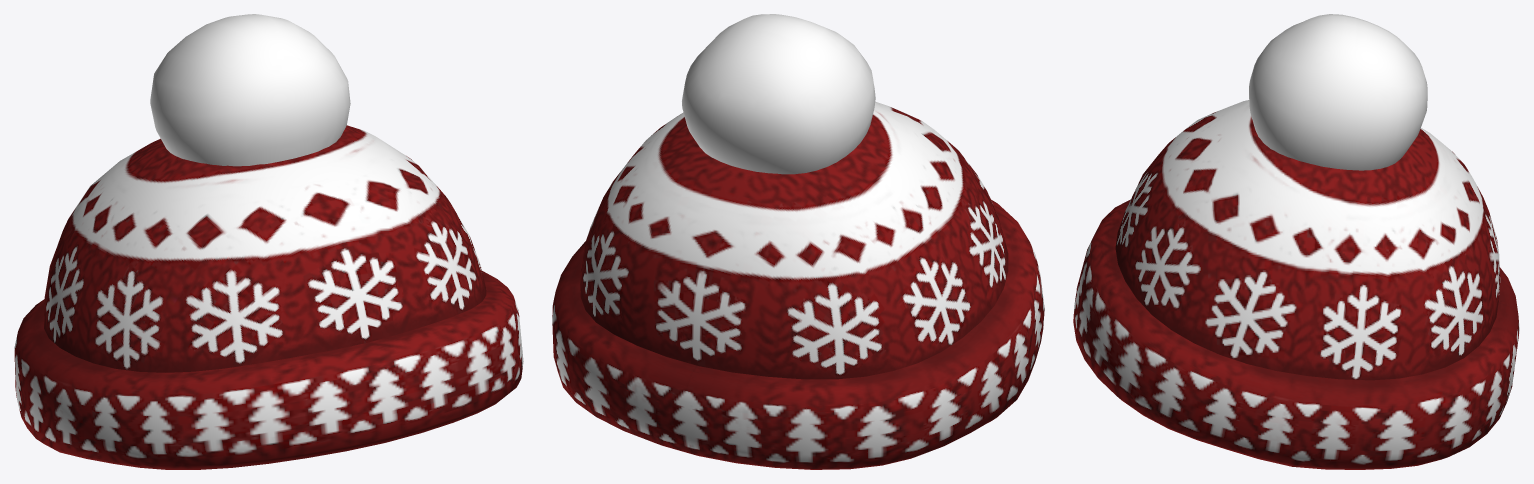
The model's file is doodad_winter_hat.fbx.
3 views of the same model, side by side, from view 1: azimuth 30°, elevation 25°; view 2: azimuth 150°, elevation 25°; view 3: azimuth 270°, elevation 25° (orthographic). The views are drawn at different scales.
Parts seen in each view (by area): view 1: doodad_winter_hat; view 2: doodad_winter_hat; view 3: doodad_winter_hat.
Boxes of the visible parts, left/top/right/bottom form: doodad_winter_hat: left=14, top=14, right=523, bottom=469; doodad_winter_hat: left=552, top=14, right=1044, bottom=469; doodad_winter_hat: left=1073, top=14, right=1519, bottom=469.
Bounding box in the file's own units: 0.2402 × 0.202 × 0.2223.
